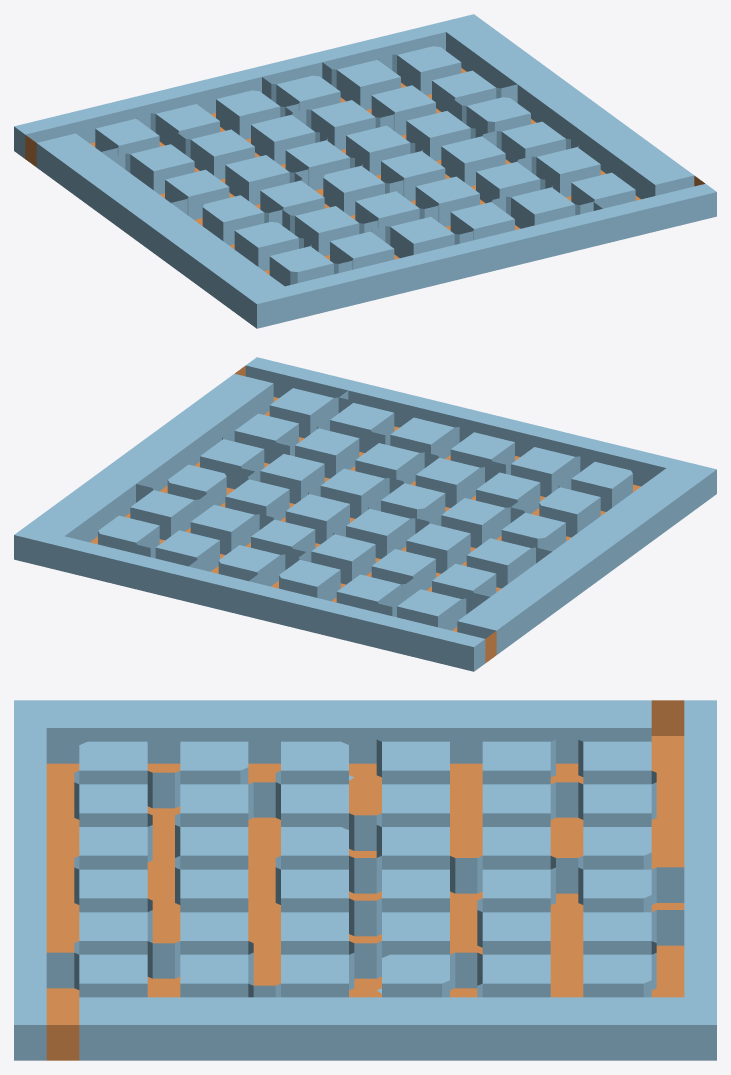
The model's file is mazev12.dae.
The picture shows the model from 3 angles, top to bottom: view 1: azimuth 30°, elevation 25°; view 2: azimuth 150°, elevation 25°; view 3: azimuth 270°, elevation 25°; orthographic projection. The views are drawn at different scales.
Parts seen in each view (by area): view 1: 平面; view 2: 平面; view 3: 平面.
Part boxes in pixels (x1,y1,x2,y2): 平面: (14, 14, 716, 328); 平面: (14, 357, 716, 671); 平面: (14, 700, 716, 1060).
Size of the model in its own units: 29.35 by 26.85 by 1.5.
